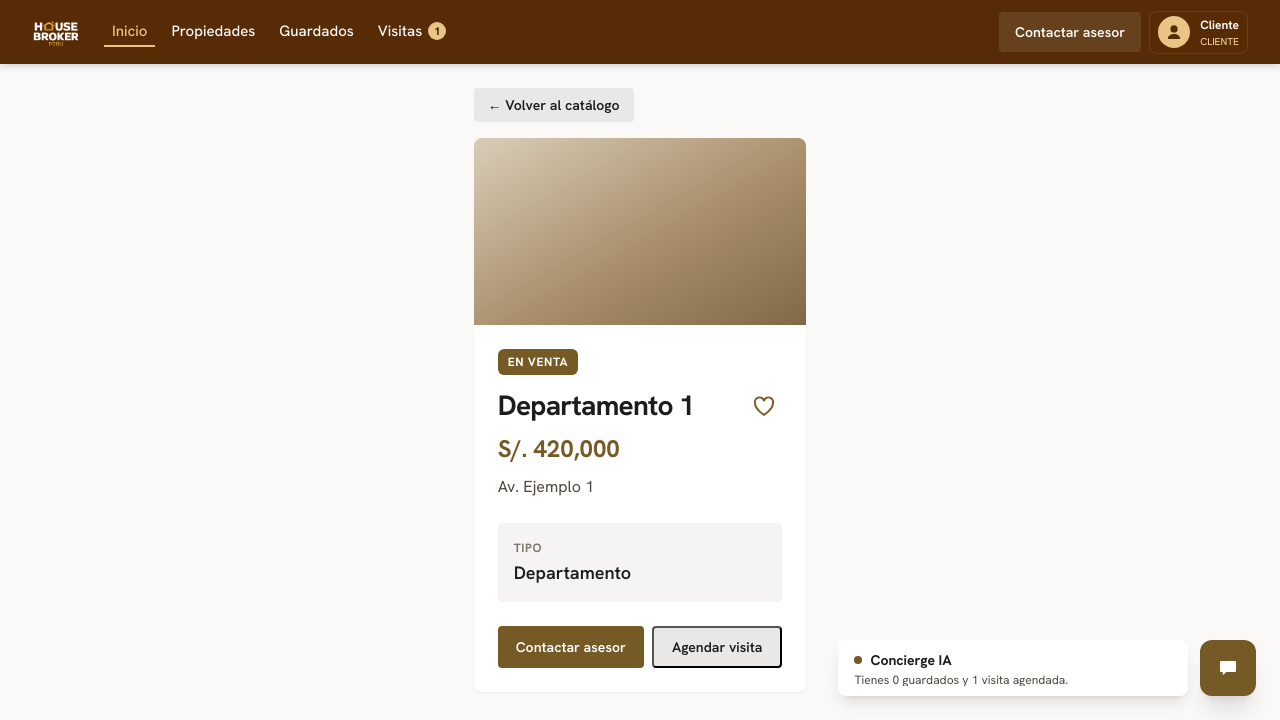
App: confirmación simulada de visitas › abrir y cancelar desde detalle conserva las visitas existentes
Click the button "Agendar visita" at (717, 647), box [652, 626, 782, 668]
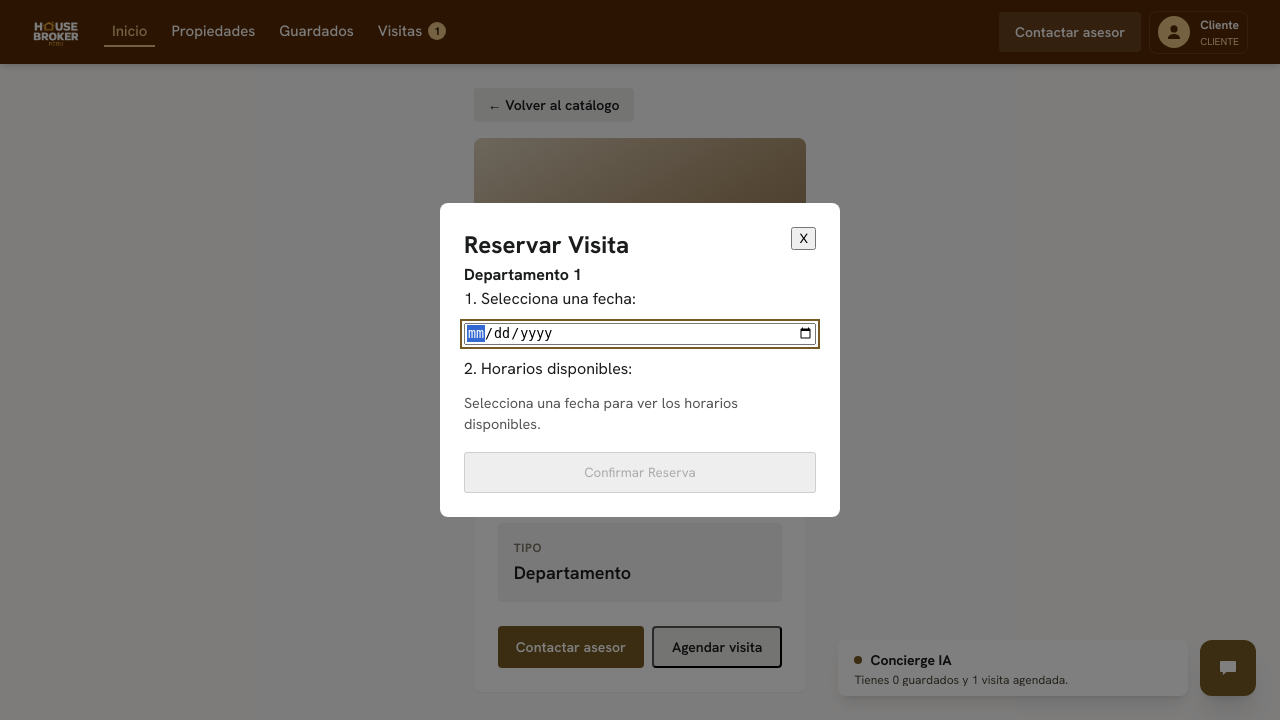
Check: the heading "Reservar Visita" is shown, box [464, 229, 629, 260]
Check: the button "Confirmar Reserva" is disabled, box [464, 452, 816, 493]
Type "2026-12-10" into the date field labelled "1. Selecciona una fecha:" at (640, 334), box [464, 323, 816, 344]
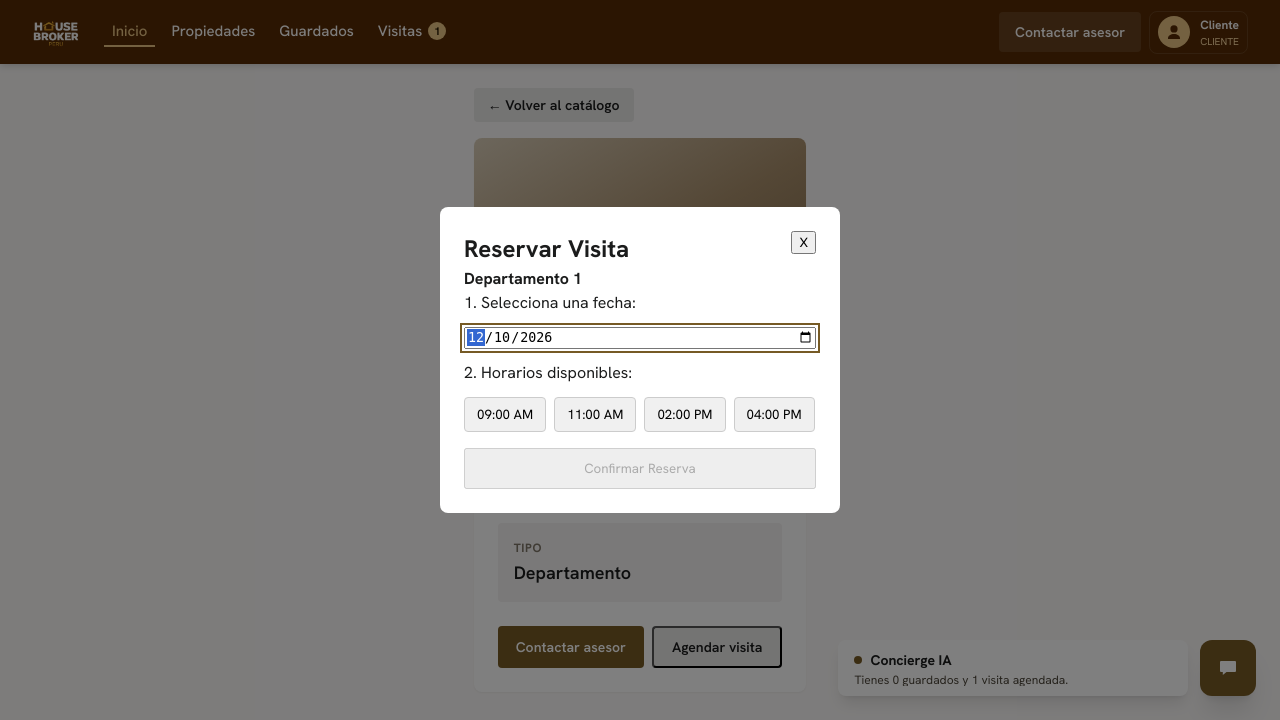
Click the option "09:00 AM" at (505, 414), box [464, 397, 546, 432]
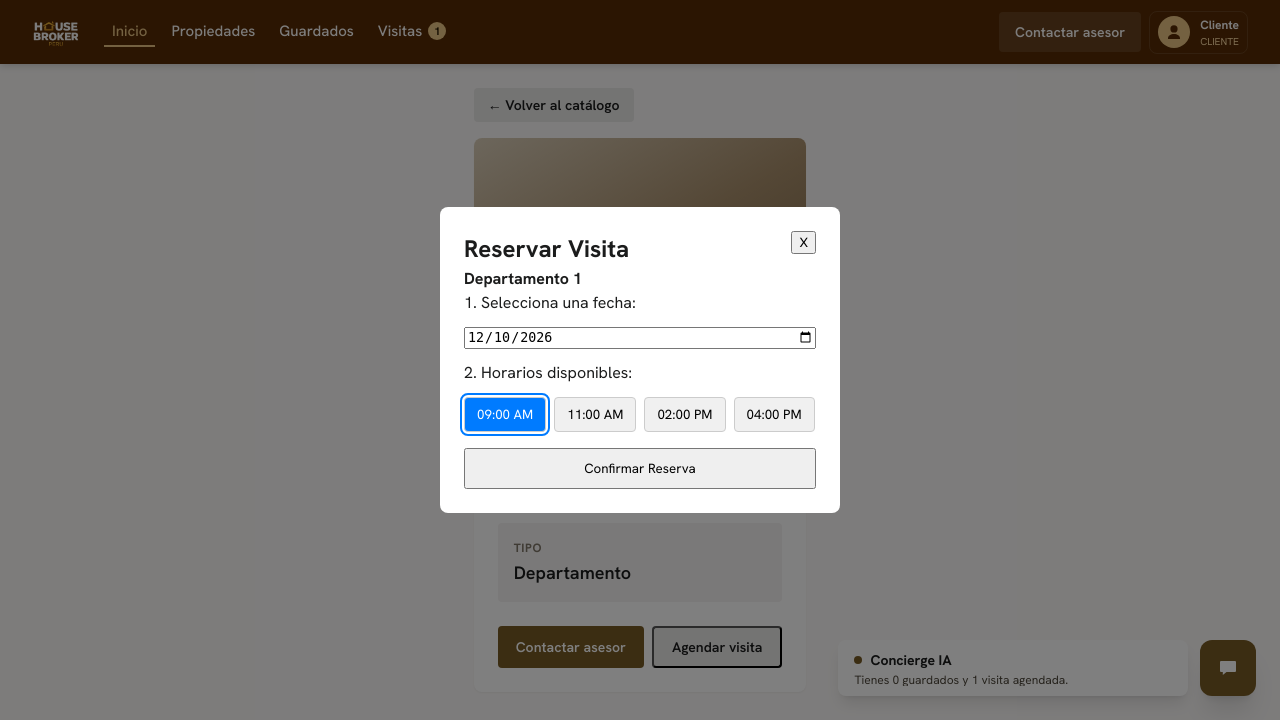
Click the button named "Cerrar" at (804, 243), box [792, 231, 816, 254]
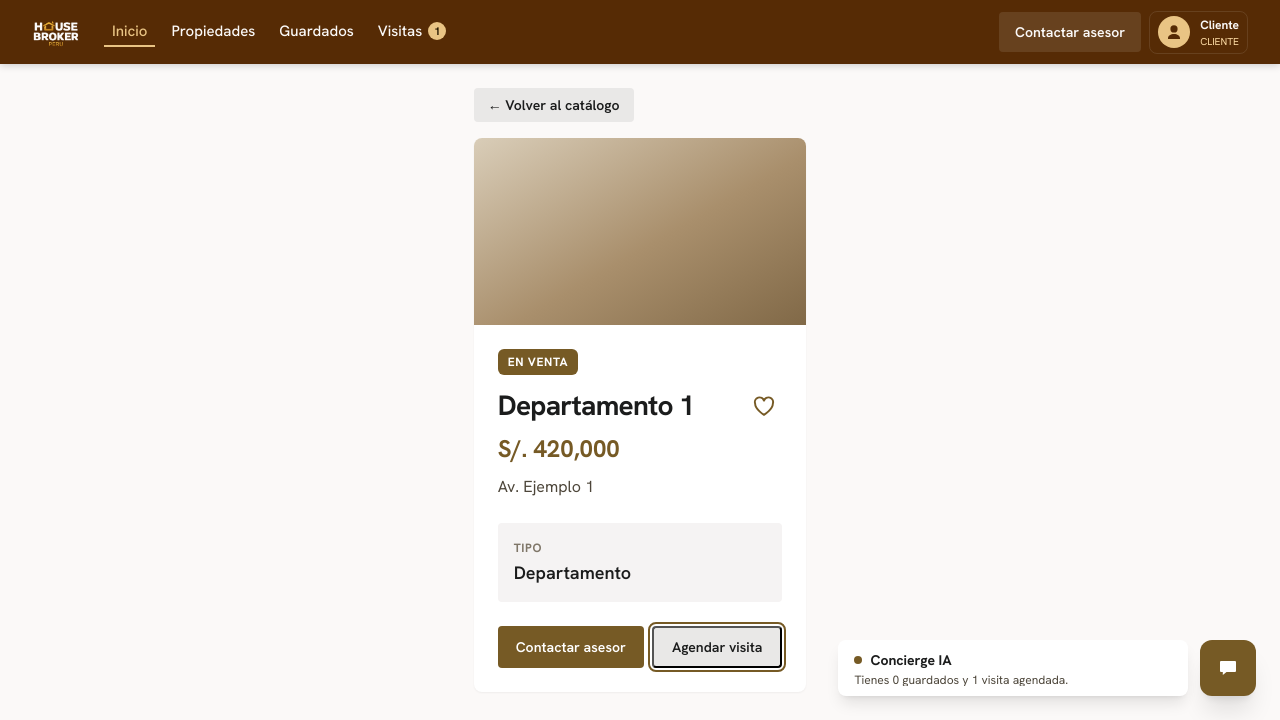
Check: the heading "Reservar Visita" is gone
Click the button "Agendar visita" at (717, 647), box [652, 626, 782, 668]
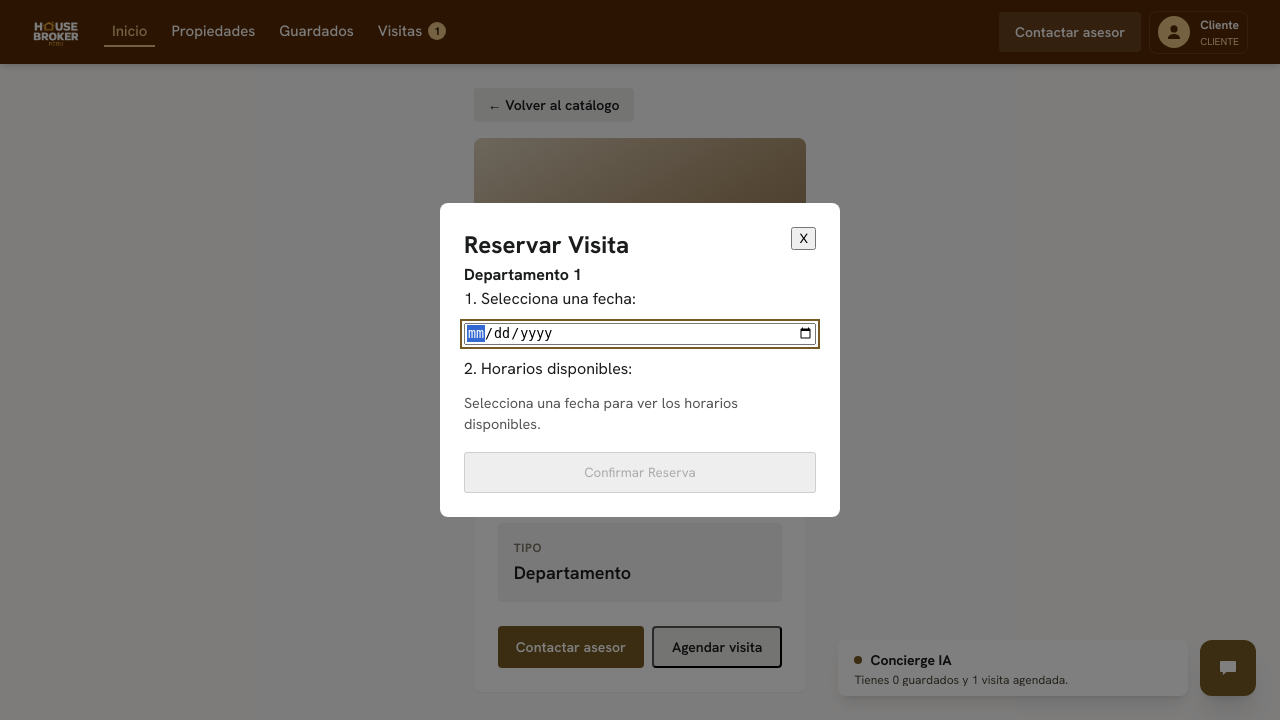
Check: the heading "Reservar Visita" is shown, box [464, 229, 629, 260]
Check: the date field labelled "1. Selecciona una fecha:" is empty, box [464, 323, 816, 344]
Check: the button "Confirmar Reserva" is disabled, box [464, 452, 816, 493]
